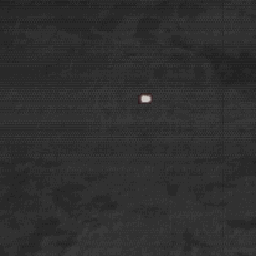Target: (139, 92, 152, 103)
